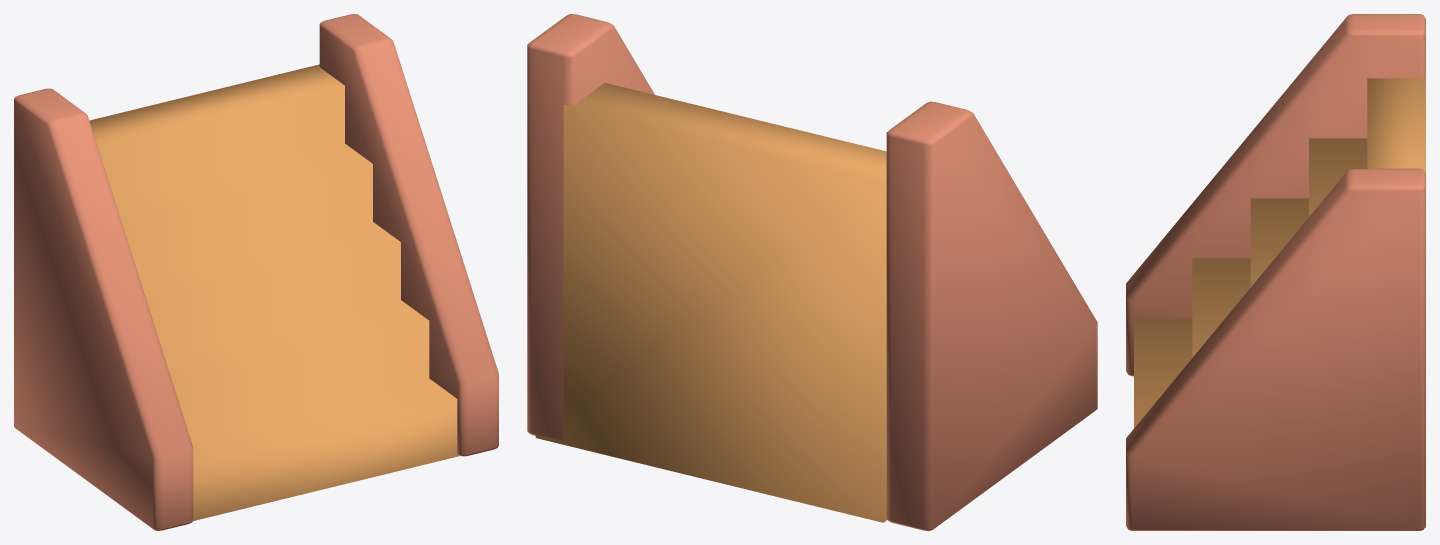
File: Escalera Castillo.fbx
3 views of the same model, side by side, from view 1: azimuth 30°, elevation 25°; view 2: azimuth 150°, elevation 25°; view 3: azimuth 270°, elevation 25° (orthographic). The views are drawn at different scales.
Visible parts, largest first — view 1: escaleras; view 2: escaleras; view 3: escaleras.
Part boxes in pixels (left/top/right/bottom): escaleras: left=14, top=14, right=498, bottom=530; escaleras: left=527, top=14, right=1097, bottom=530; escaleras: left=1126, top=14, right=1425, bottom=530.
Bounding box in the file's own units: 77 × 98 × 107.
